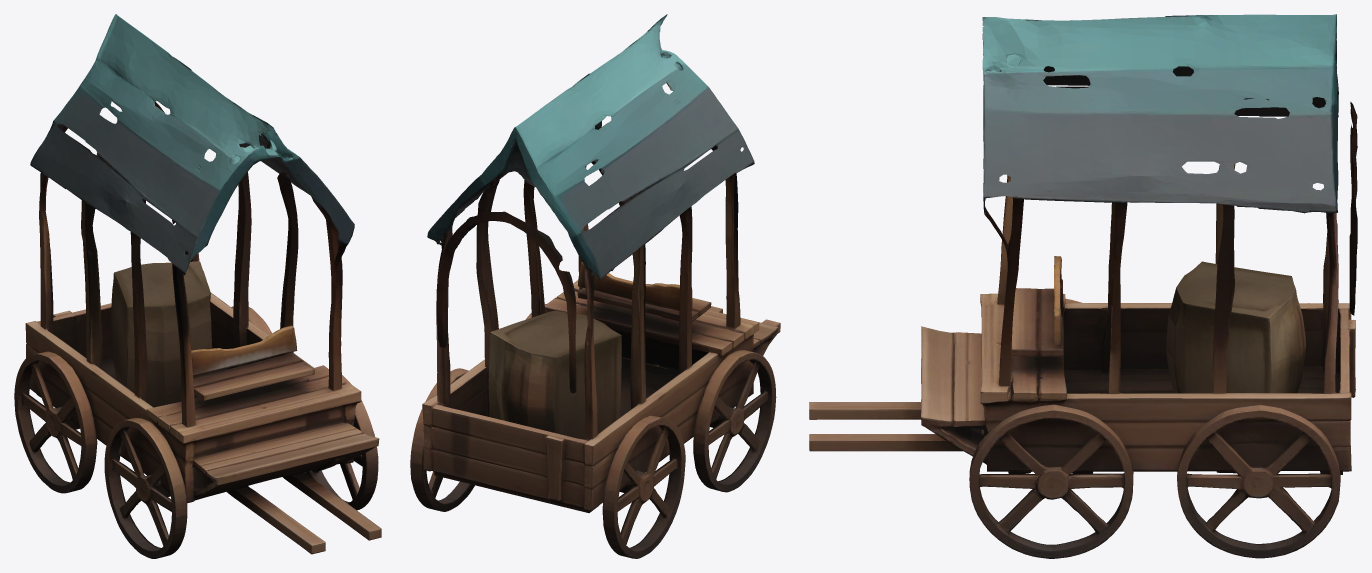
Rendered from nano_t02.glb.
3 views of the same model, side by side, from view 1: azimuth 30°, elevation 25°; view 2: azimuth 150°, elevation 25°; view 3: azimuth 270°, elevation 25° (orthographic). The views are drawn at different scales.
Visible parts, largest first — view 1: geometry_0; view 2: geometry_0; view 3: geometry_0.
Boxes of the visible parts, x1,y1,x2,y2 form: geometry_0: (14, 14, 381, 558); geometry_0: (410, 14, 780, 558); geometry_0: (809, 14, 1357, 558).
Bounding box in the file's own units: 0.9662 × 1.93 × 1.97.
1 material, 1 textured.
